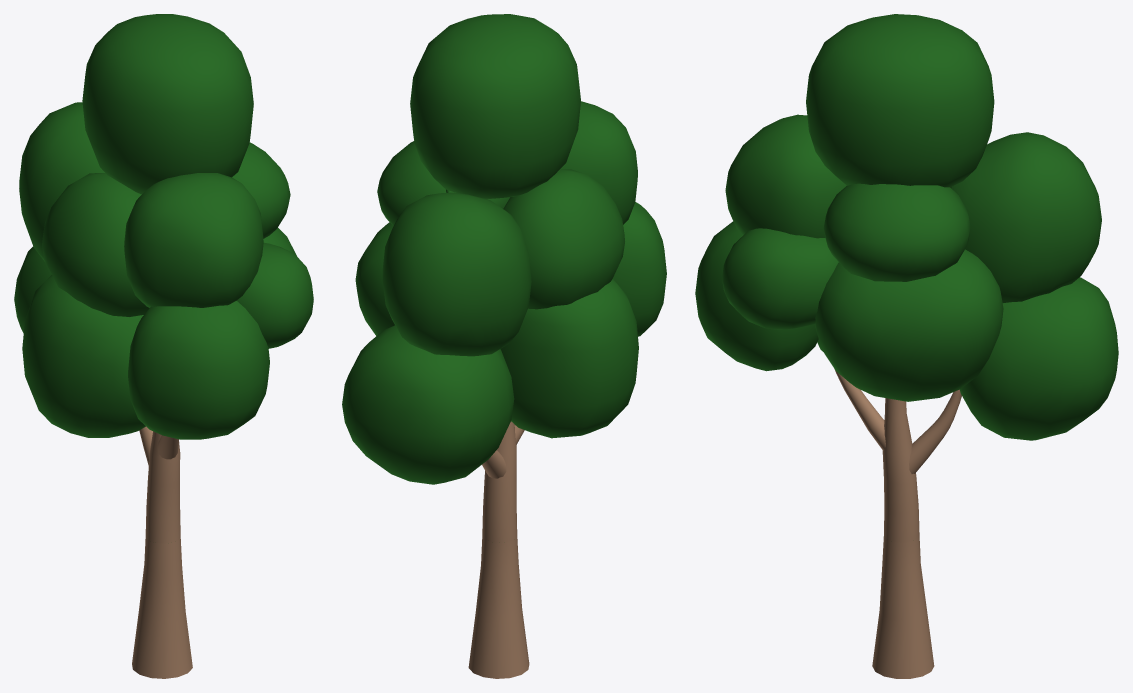
Rendered from Arbol5.fbx.
The picture shows the model from 3 angles, left to right: view 1: azimuth 30°, elevation 25°; view 2: azimuth 150°, elevation 25°; view 3: azimuth 270°, elevation 25°; orthographic projection.
Visible parts, largest first — view 1: Tree1_1; view 2: Tree1_1; view 3: Tree1_1.
Part boxes in pixels (x1,y1,x2,y2): Tree1_1: (14, 14, 313, 678); Tree1_1: (342, 14, 666, 678); Tree1_1: (695, 14, 1118, 678).
Bounding box in the file's own units: 1197 × 2912 × 1737.
